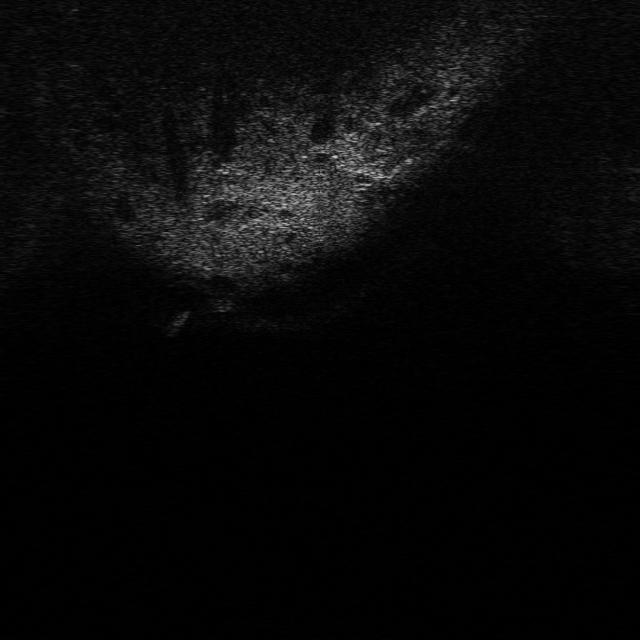cube: (206, 287, 242, 314)
cylinder: (158, 306, 194, 338)
